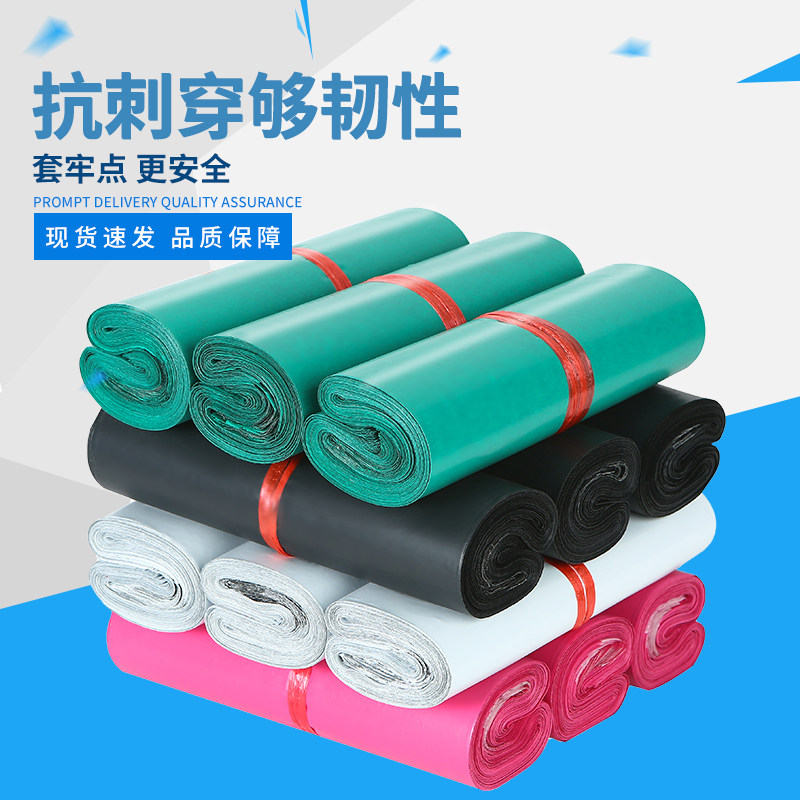塑料袋: (43, 177, 744, 800)
